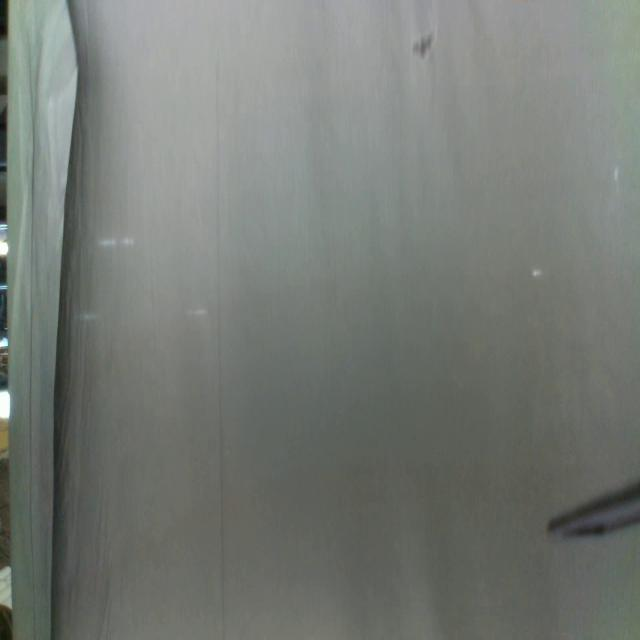hole: (414, 33, 435, 58)
